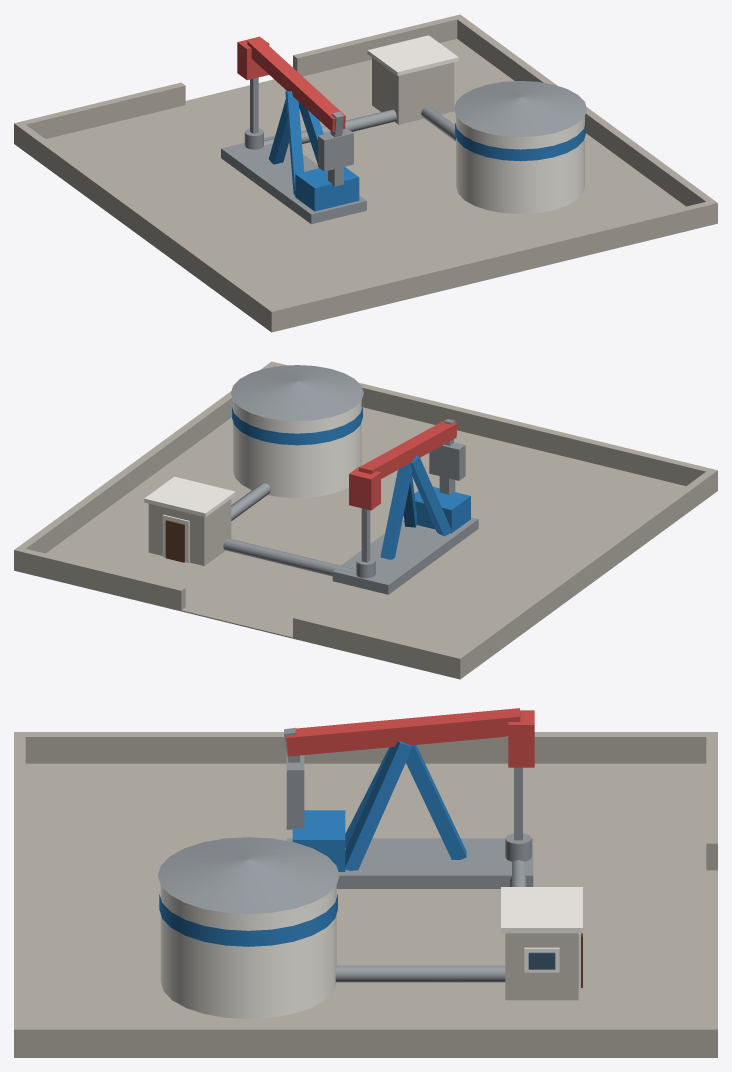
The model's file is oilwell.glb.
The picture shows the model from 3 angles, top to bottom: view 1: azimuth 30°, elevation 25°; view 2: azimuth 150°, elevation 25°; view 3: azimuth 270°, elevation 25°; orthographic projection. The views are drawn at different scales.
Visible parts, largest first — view 1: gravel_pad, pad_wall (×5), storage_tank, tank_roof, control_hut, pumpjack_base, pumpjack_beam, samson_post (×3), hut_roof, gearbox, tank_band, pipe (×2) (+2 smaller); view 2: gravel_pad, pad_wall (×5), storage_tank, tank_roof, pumpjack_base, control_hut, samson_post (×2), hut_roof, pipe (×2), pumpjack_beam, tank_band, gearbox (+4 smaller); view 3: gravel_pad, pad_wall (×5), storage_tank, tank_roof, pumpjack_base, pumpjack_beam, samson_post (×2), control_hut, hut_roof, pipe, tank_band, gearbox (+4 smaller).
Boxes of the visible parts, bbox=[...] form: gravel_pad: bbox=[14, 39, 717, 332]; pad_wall (×5): bbox=[14, 14, 717, 331]; storage_tank: bbox=[456, 116, 584, 213]; tank_roof: bbox=[454, 81, 586, 136]; control_hut: bbox=[372, 58, 454, 124]; pumpjack_base: bbox=[221, 135, 366, 224]; pumpjack_beam: bbox=[247, 38, 345, 131]; samson_post (×3): bbox=[268, 91, 323, 195]; hut_roof: bbox=[367, 35, 458, 75]; gearbox: bbox=[295, 166, 359, 211]; tank_band: bbox=[455, 122, 585, 161]; pipe (×2): bbox=[264, 106, 455, 145]; gravel_pad: bbox=[14, 407, 717, 679]; pad_wall (×5): bbox=[14, 361, 717, 678]; storage_tank: bbox=[233, 401, 361, 498]; tank_roof: bbox=[231, 365, 363, 421]; pumpjack_base: bbox=[332, 517, 478, 594]; control_hut: bbox=[148, 499, 231, 565]; samson_post (×2): bbox=[380, 455, 451, 559]; hut_roof: bbox=[144, 476, 235, 517]; pipe (×2): bbox=[223, 483, 356, 576]; pumpjack_beam: bbox=[358, 420, 457, 478]; tank_band: bbox=[232, 406, 362, 445]; gearbox: bbox=[414, 487, 470, 533]; gravel_pad: bbox=[14, 763, 717, 1057]; pad_wall (×5): bbox=[14, 732, 717, 1056]; storage_tank: bbox=[160, 886, 336, 1018]; tank_roof: bbox=[157, 837, 339, 913]; pumpjack_base: bbox=[286, 838, 533, 888]; pumpjack_beam: bbox=[286, 708, 520, 756]; samson_post (×2): bbox=[344, 740, 466, 870]; control_hut: bbox=[505, 933, 578, 1000]; hut_roof: bbox=[501, 887, 582, 933]; pipe: bbox=[335, 965, 505, 982]; tank_band: bbox=[159, 894, 337, 946]; gearbox: bbox=[292, 810, 345, 871].
Bounding box in the file's own units: 24 × 6 × 24.
